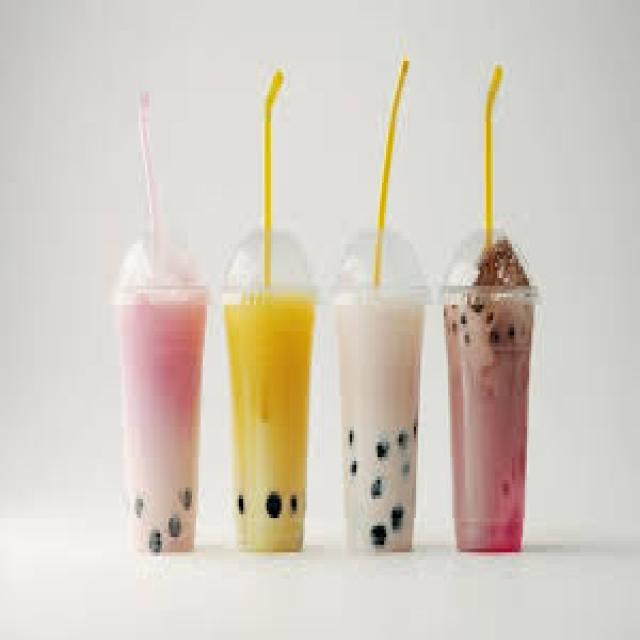bottle: (447, 288, 535, 550), (227, 292, 315, 550), (336, 297, 424, 550), (123, 290, 205, 550)
